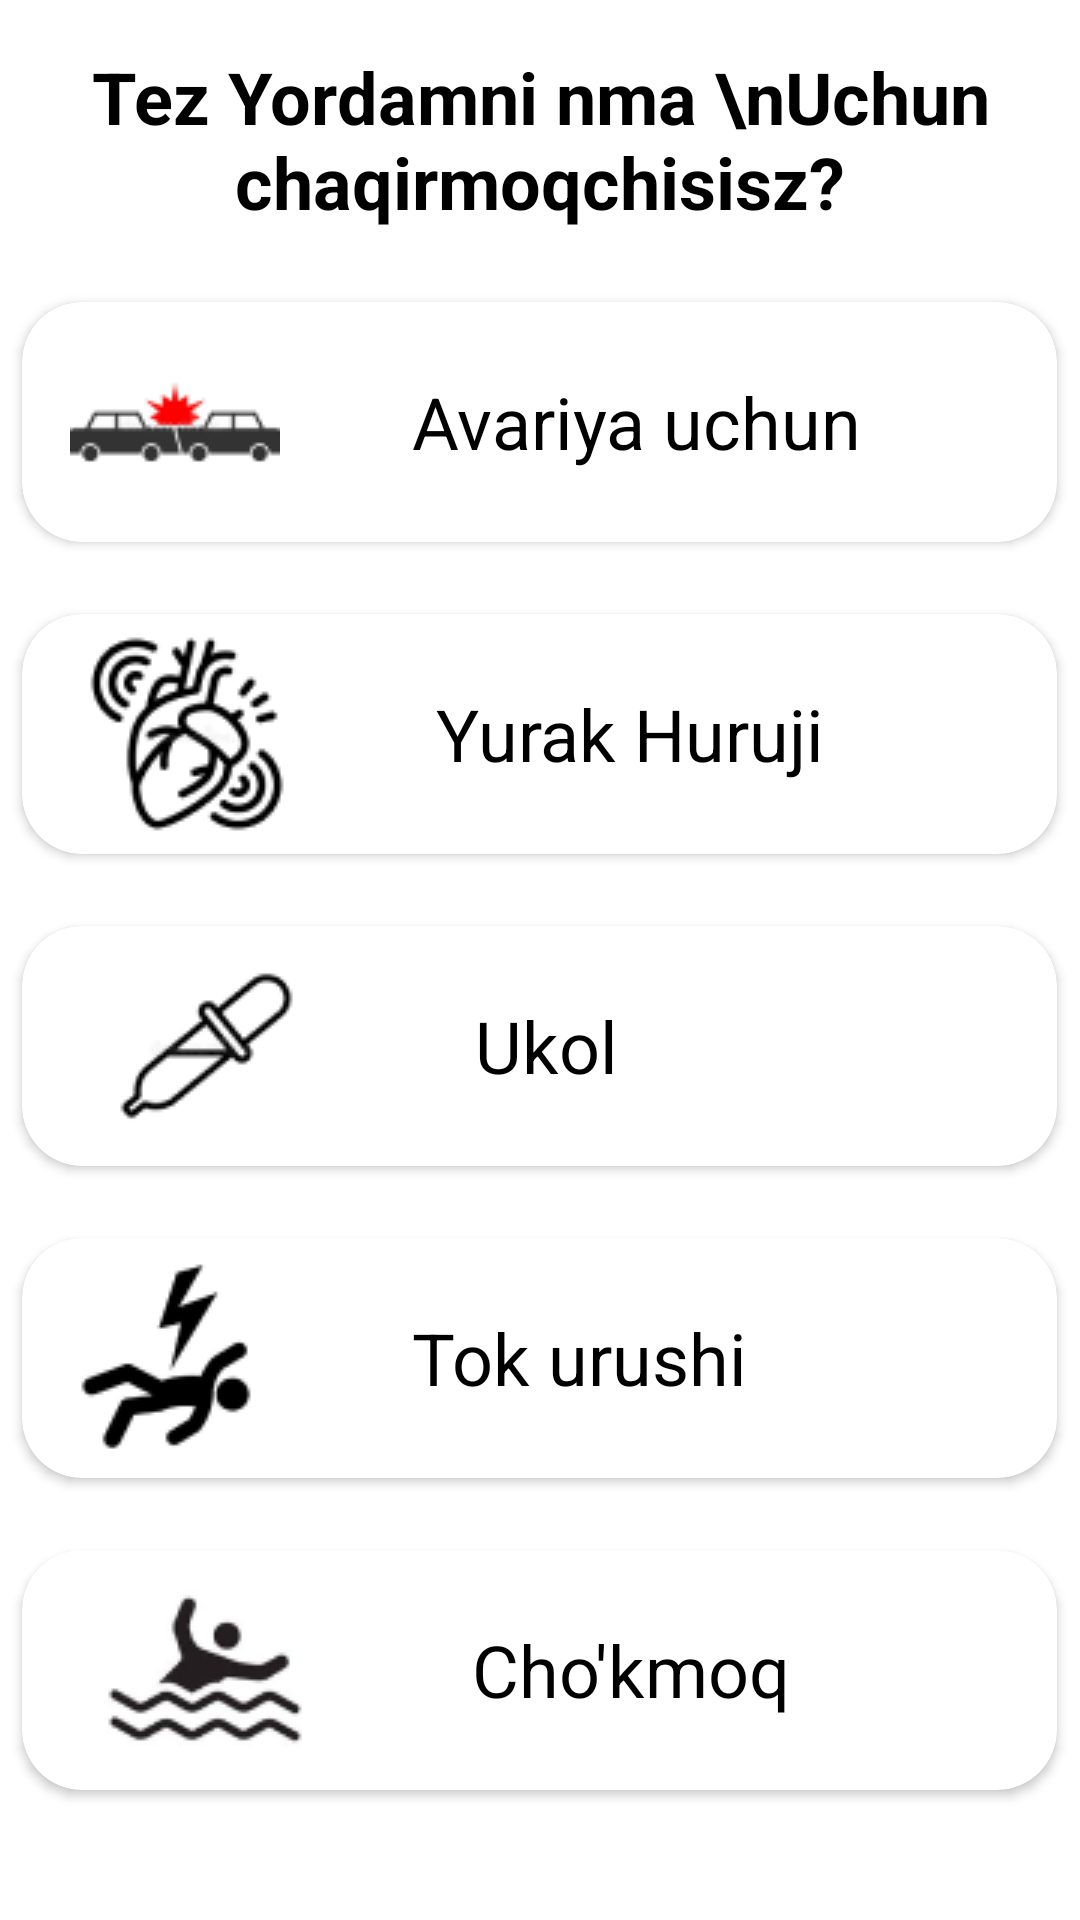

Named icons in this screenshot (1080w x 1920h) and their bounding boxes, (x1, y1, x2, y2):
chokish: (108, 1596, 302, 1743)
